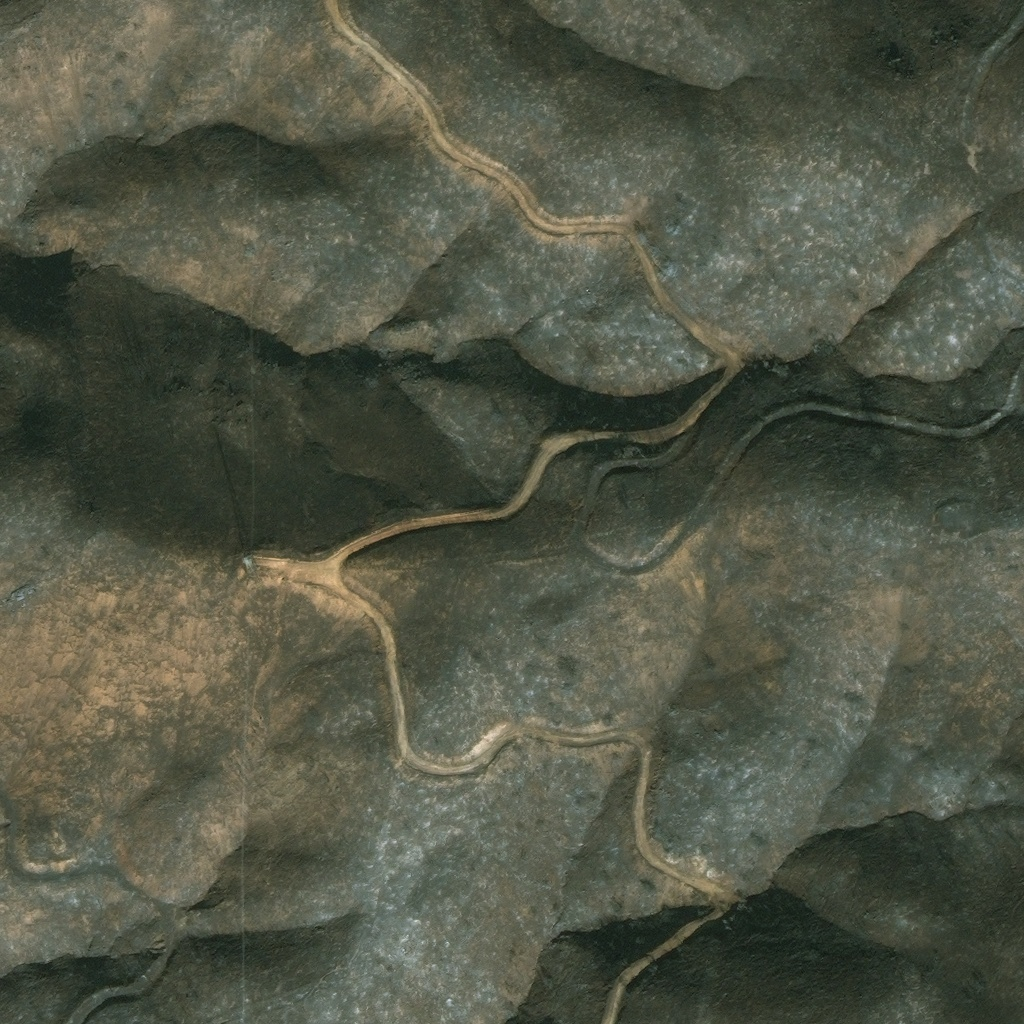2 major-damage: (242, 560, 258, 579)
3 destroyed: (9, 23, 27, 37)
